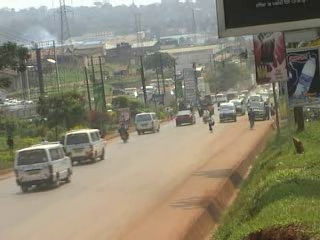Car: (173, 107, 196, 127)
Motorcycle: (117, 129, 130, 143), (201, 112, 211, 125)
